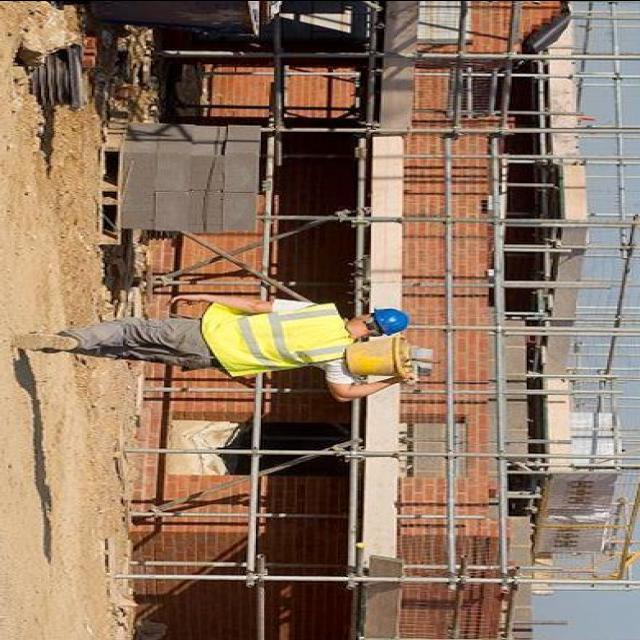helmet: (367, 304, 412, 336)
jacket: (204, 292, 346, 382)
